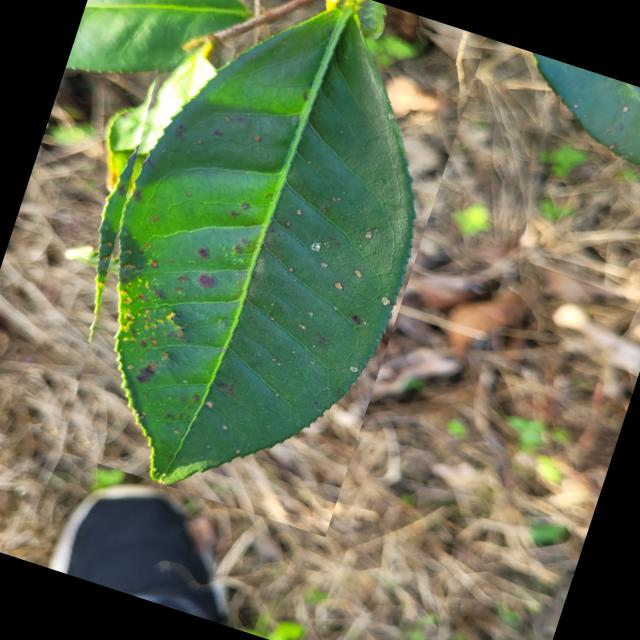Category D 7+ days, Not for Tea: (28, 0, 486, 537)
